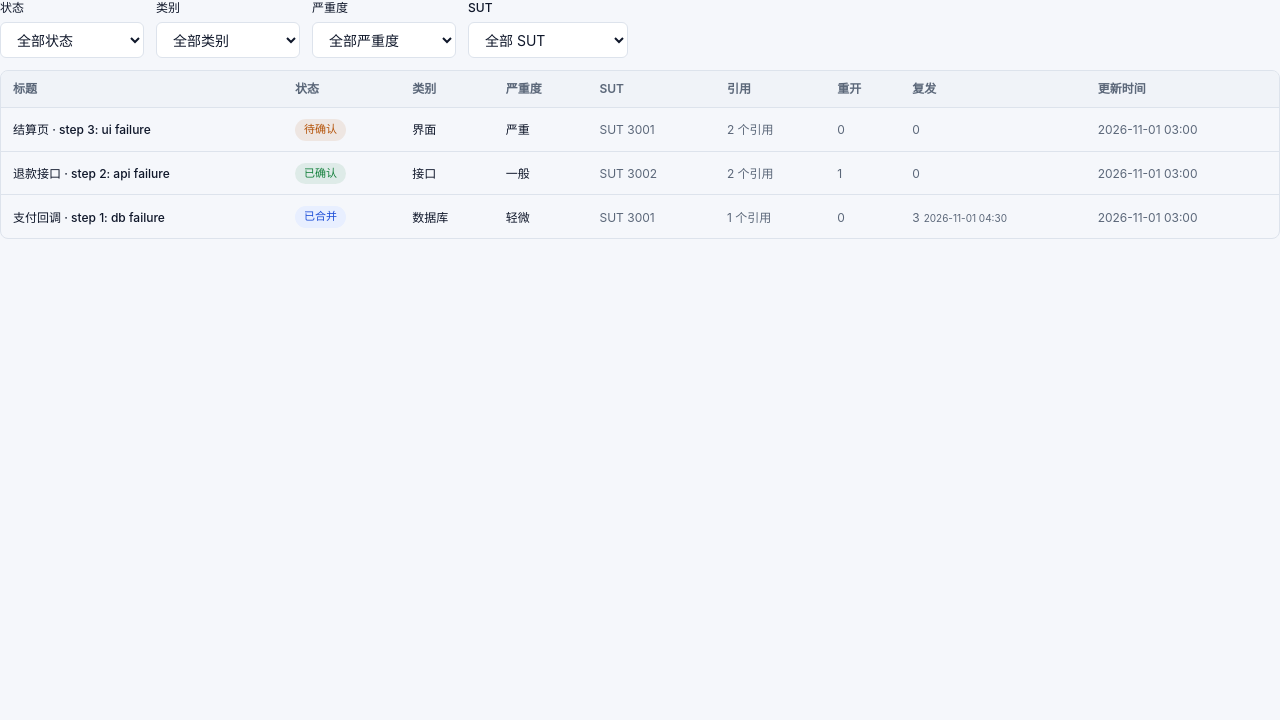
Test case: IssuesTab › refetches the list and open detail once for a burst of issue events
Step 1. Click the button with test id "issue-9101" → (82, 130), box top-left (13, 122), bottom-right (151, 138)
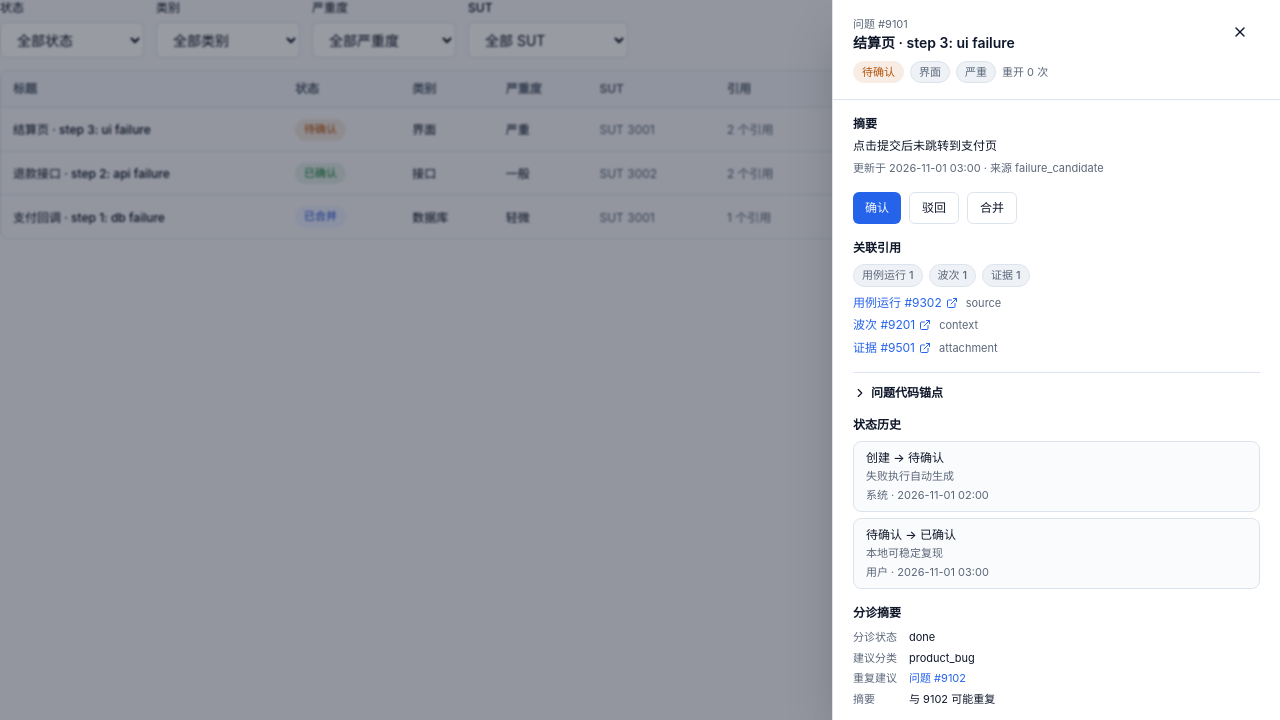
Now the text "点击提交后未跳转到支付页" is shown, box top-left (853, 138), bottom-right (997, 153)
